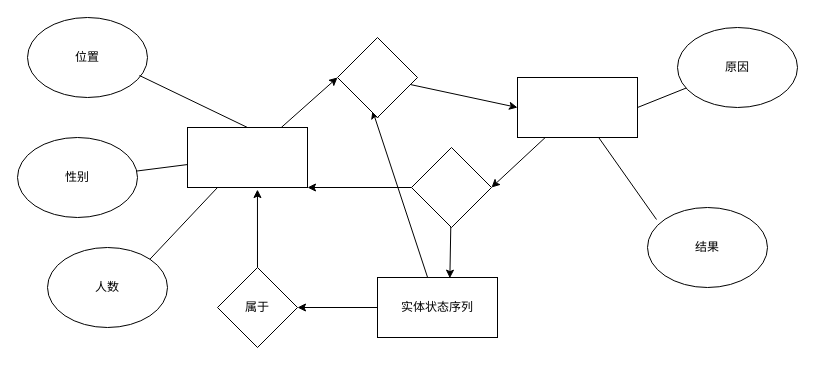
Image size: 815x365. Some labels were removed from this diagram. The box of each missing label's shape, as (x1, y1, x2, y2) in pixels:
作用: (410, 146, 492, 228)
动作: (516, 76, 638, 138)
实体: (186, 126, 308, 188)
执行: (336, 36, 418, 118)
